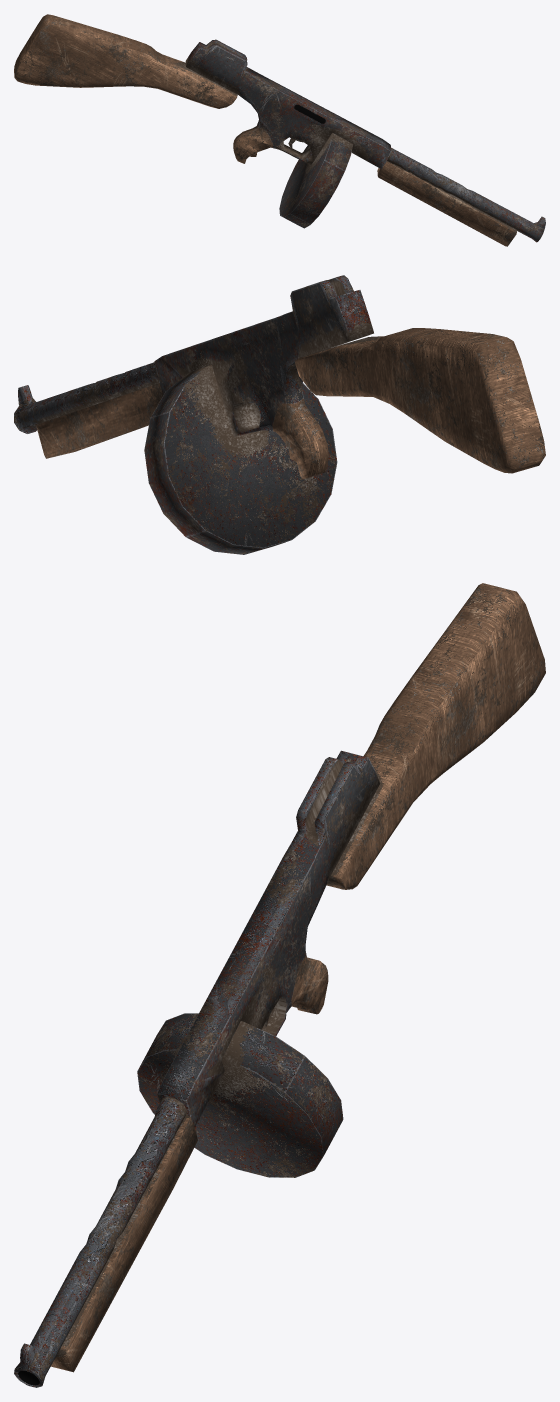
Rendered from Anim_disparar_ametralladora_objetos.0020.obj.
3 views of the same model, one above another, from view 1: azimuth 30°, elevation 25°; view 2: azimuth 150°, elevation 25°; view 3: azimuth 270°, elevation 25° (orthographic). The views are drawn at different scales.
Parts seen in each view (by area): view 1: Ametralladora1; view 2: Ametralladora1; view 3: Ametralladora1.
Boxes of the visible parts, left/top/right/bottom form: Ametralladora1: left=14, top=14, right=545, bottom=246; Ametralladora1: left=14, top=275, right=545, bottom=554; Ametralladora1: left=14, top=583, right=545, bottom=1387.
Size of the model in its own units: 5.14 by 2.75 by 2.95.
